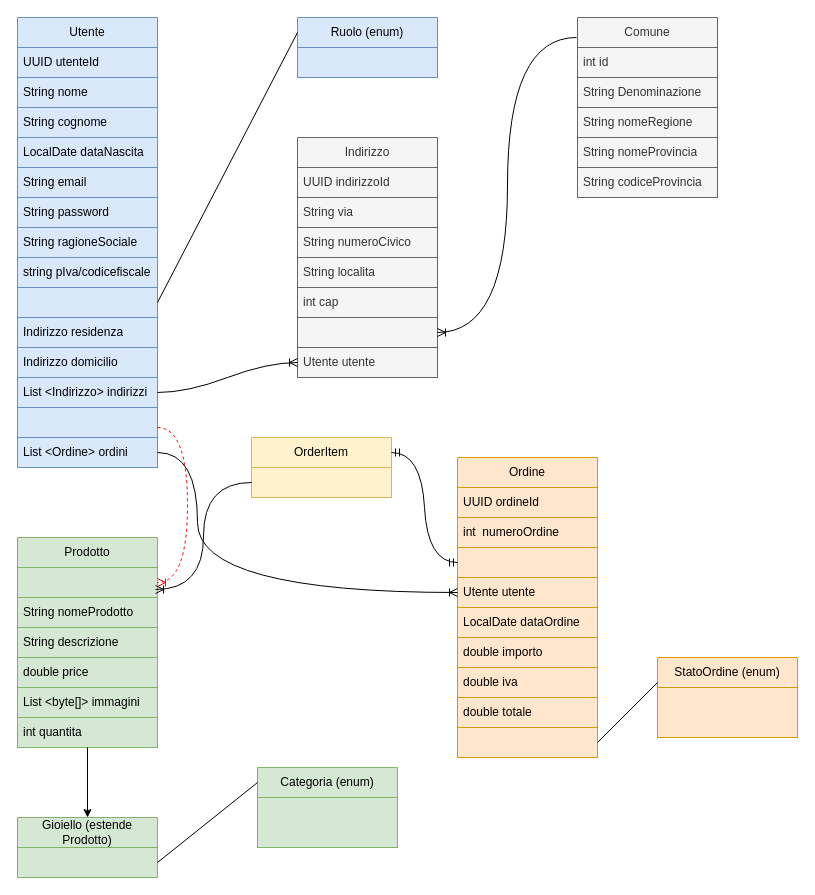
This 815x895 diagram has some shape labels left out. Each missing label, with the centre of its shape:
ADMIN, USER: (367,62)
Categoria categoria: (87,862)
COLLANA, ANELLI, ORECCHINI, BRACCIALE, ALTRO: (327,822)
Comune comune: (367,332)
List <Prodotti> preferiti: (87,422)
List <Prodotto> prodotti: (321,482)
OrderItem items: (527,562)
PENDENTE, PAGATO, INVIATO, CONSEGNATO: (727,712)
Ruolo ruolo: (87,302)
StatoOrdine stato: (527,742)
UUID prodottoId: (87,582)
